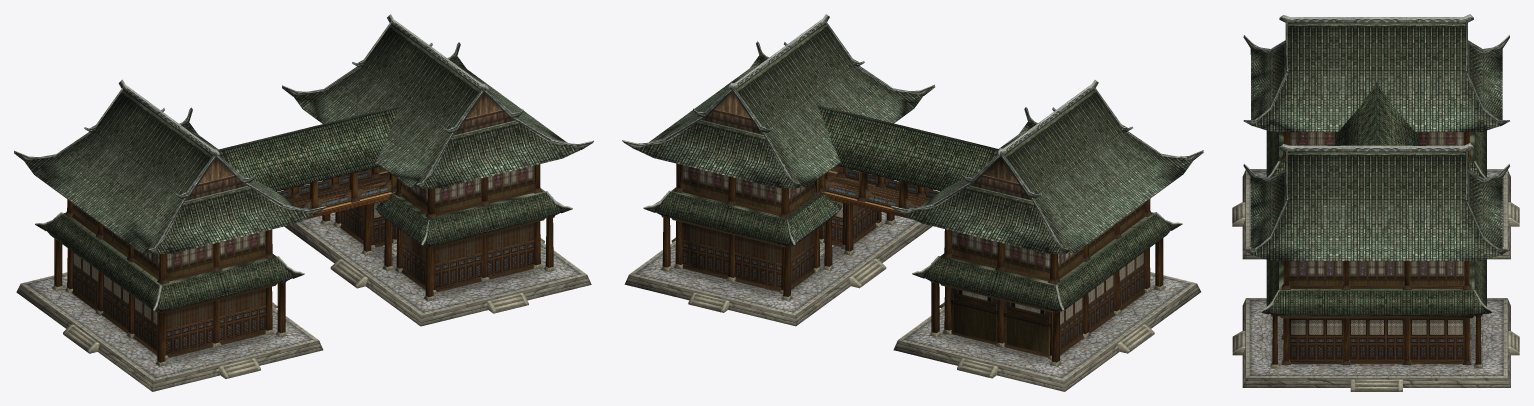
File: c1-009-hotel_lod_01.fbx
3 views of the same model, side by side, from view 1: azimuth 30°, elevation 25°; view 2: azimuth 150°, elevation 25°; view 3: azimuth 270°, elevation 25° (orthographic).
Visible parts, largest first — view 1: c1-009-hotel01, c1-009-hotel02, c1-009-hotel03; view 2: c1-009-hotel01, c1-009-hotel03, c1-009-hotel02; view 3: c1-009-hotel01, c1-009-hotel02, c1-009-hotel03.
Boxes of the visible parts, x1,y1,x2,y2 form: c1-009-hotel01: [14, 14, 593, 254]; c1-009-hotel02: [35, 105, 572, 354]; c1-009-hotel03: [16, 164, 591, 391]; c1-009-hotel01: [622, 14, 1203, 253]; c1-009-hotel03: [624, 163, 1200, 391]; c1-009-hotel02: [643, 104, 1182, 351]; c1-009-hotel01: [1243, 14, 1509, 260]; c1-009-hotel02: [1259, 82, 1493, 360]; c1-009-hotel03: [1232, 132, 1519, 391].
Bounding box in the file's own units: 35.89 × 15.6 × 19.9.
